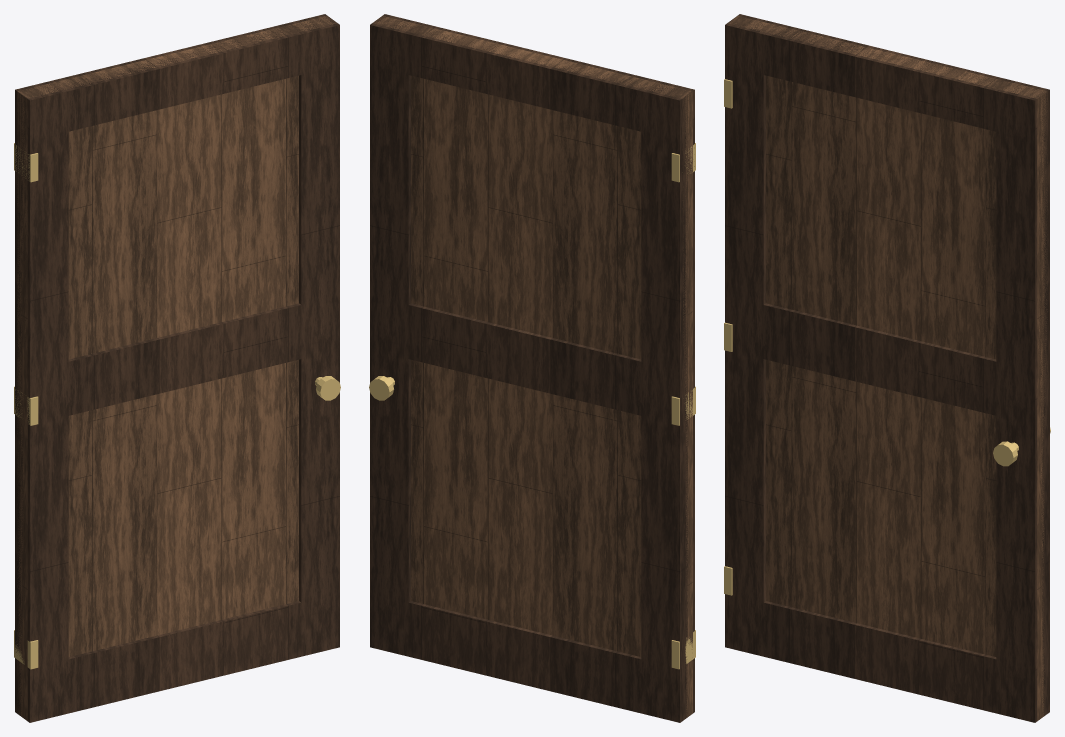
File: INT_Puerta.fbx
The picture shows the model from 3 angles, left to right: view 1: azimuth 30°, elevation 25°; view 2: azimuth 150°, elevation 25°; view 3: azimuth 330°, elevation 25°; orthographic projection.
Visible parts, largest first — view 1: INT_Puerta; view 2: INT_Puerta; view 3: INT_Puerta.
Part boxes in pixels (bbox=[...]): INT_Puerta: bbox=[14, 14, 340, 722]; INT_Puerta: bbox=[369, 14, 695, 722]; INT_Puerta: bbox=[724, 14, 1050, 722].
Size of the model in its own units: 1.2 by 2.3 by 0.25.
